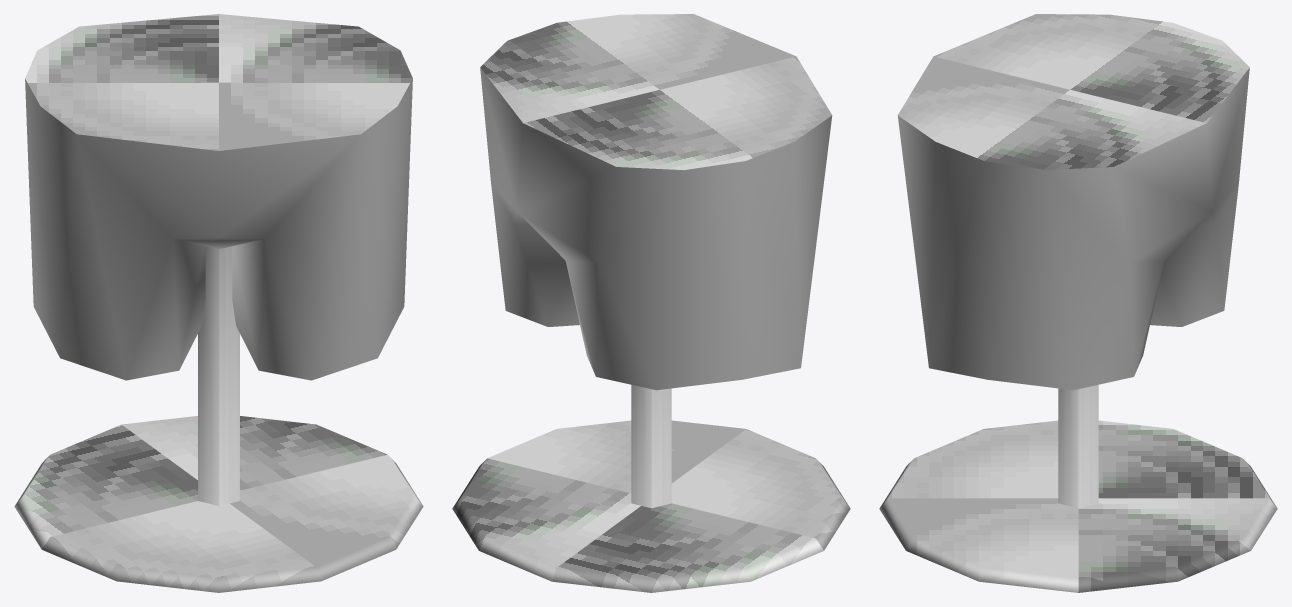
Rendered from mq_btms_pntH_grc.dae.
3 renders of one model, left to right at view 1: azimuth 30°, elevation 25°; view 2: azimuth 150°, elevation 25°; view 3: azimuth 270°, elevation 25°, orthographic. The views are drawn at different scales.
Parts seen in each view (by area): view 1: mq_btms_pntH_grc; view 2: mq_btms_pntH_grc; view 3: mq_btms_pntH_grc.
Part boxes in pixels (left/top/right/bottom): mq_btms_pntH_grc: left=14, top=14, right=423, bottom=592; mq_btms_pntH_grc: left=452, top=14, right=850, bottom=592; mq_btms_pntH_grc: left=879, top=14, right=1277, bottom=592.
Bounding box in the file's own units: 17 × 19.63 × 17.
2 materials, 2 textured.
